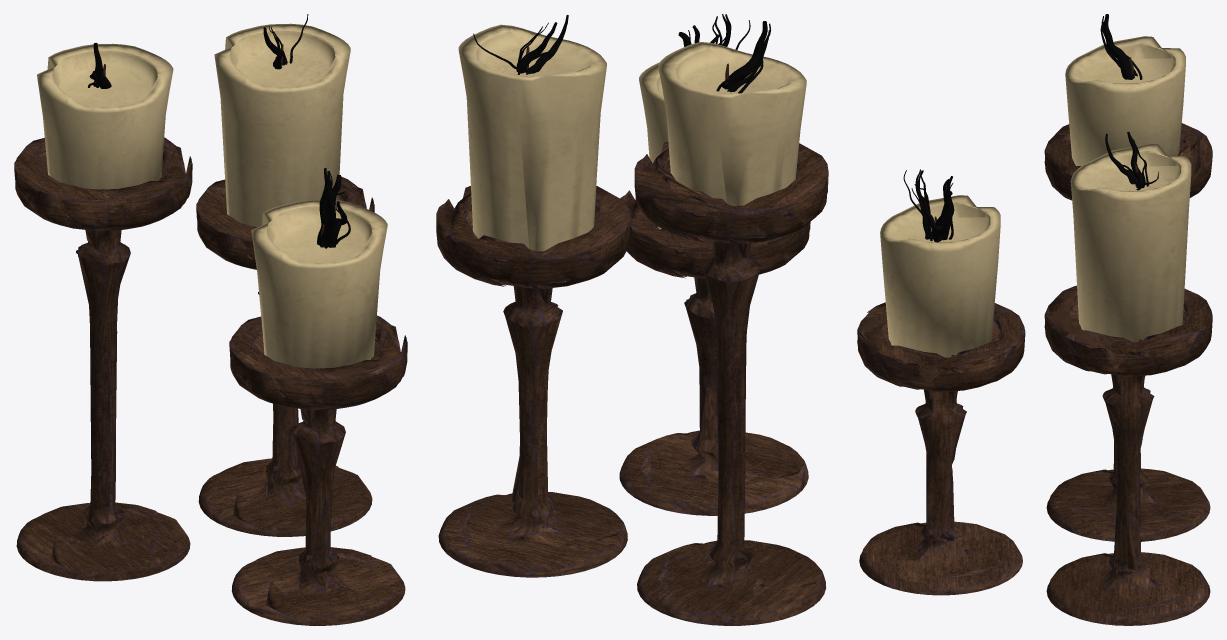
The model's file is candle 10.obj.
3 views of the same model, side by side, from view 1: azimuth 30°, elevation 25°; view 2: azimuth 150°, elevation 25°; view 3: azimuth 270°, elevation 25° (orthographic). The views are drawn at different scales.
Visible parts, largest first — view 1: directionalLight2; view 2: directionalLight2; view 3: directionalLight2.
Boxes of the visible parts, x1,y1,x2,y2 form: directionalLight2: (14, 14, 407, 625); directionalLight2: (436, 14, 828, 625); directionalLight2: (857, 14, 1212, 625).
Bounding box in the file's own units: 4.11 × 5.99 × 3.99.
6 materials, 3 textured.
